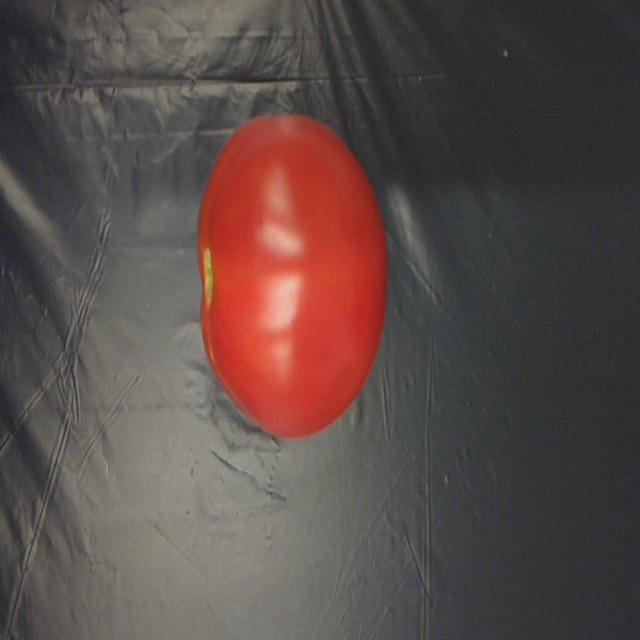kirmizi: (180, 103, 410, 440)
